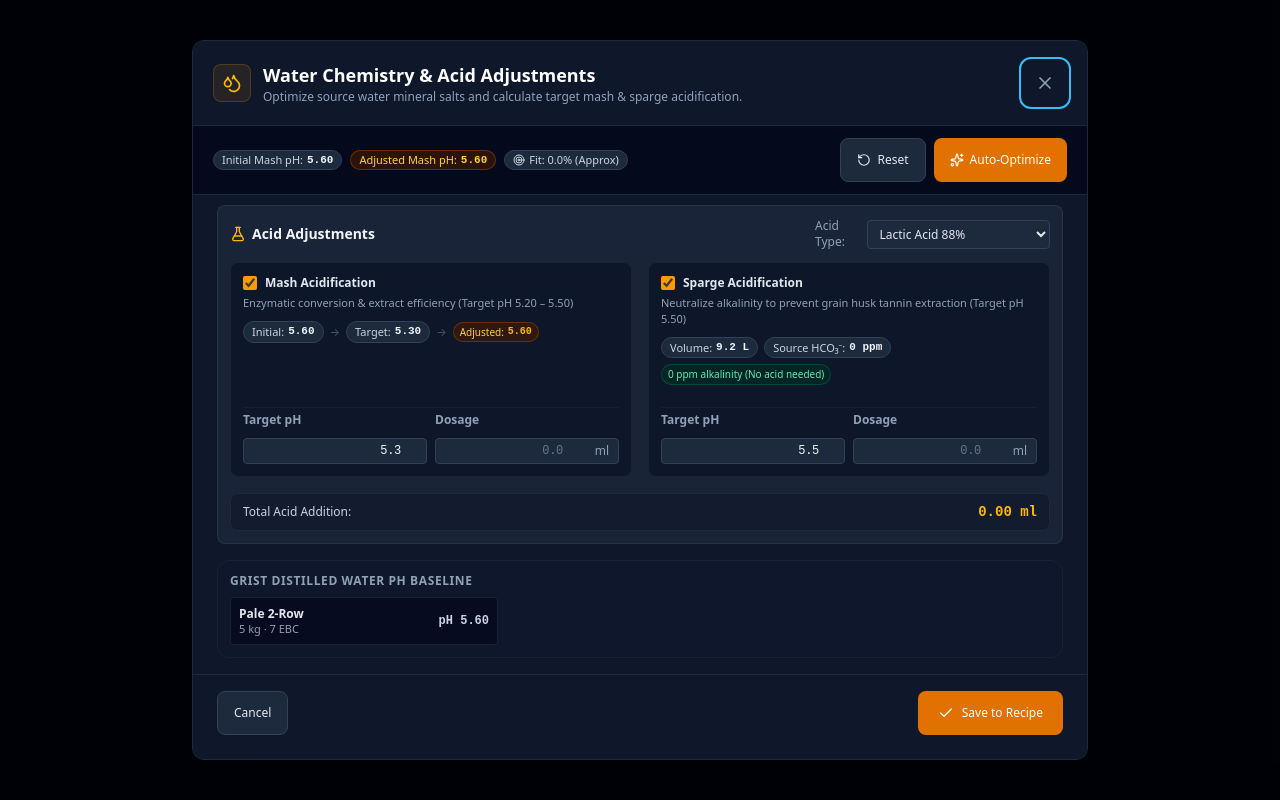
Scenario: AC-17: Acid toggles OFF disable respective controls and zero dosages (RA-2, RA-3, RA-4) › disables mash/sparge controls and zeroes amounts without resetting target pH
The image size is (1280, 800).
(page scrolled)
Type "3.5" into the number field named "Mash Acid Dosage".
click(527, 451); type("3.5")  # box left=435, top=438, right=619, bottom=464
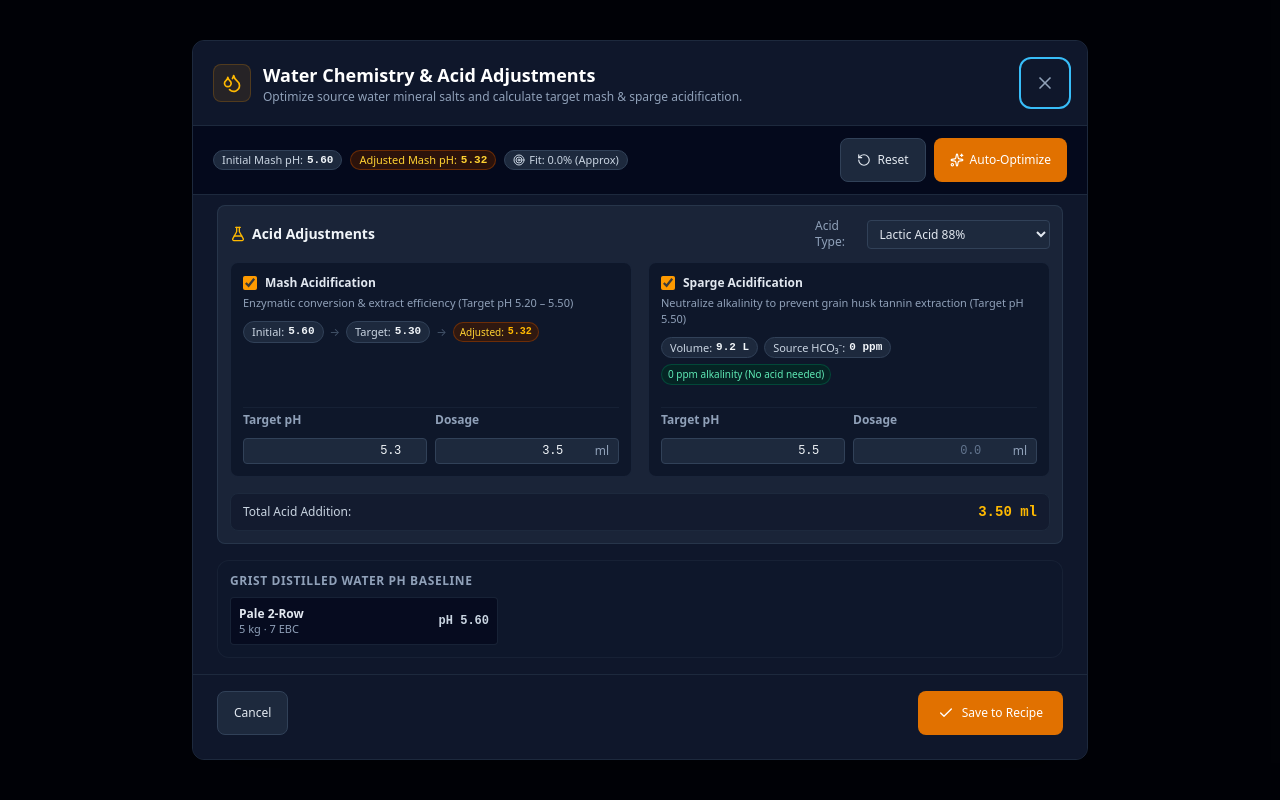
Type "2.1" into the number field named "Sparge Acid Dosage".
click(945, 451); type("2.1")  # box left=853, top=438, right=1037, bottom=464
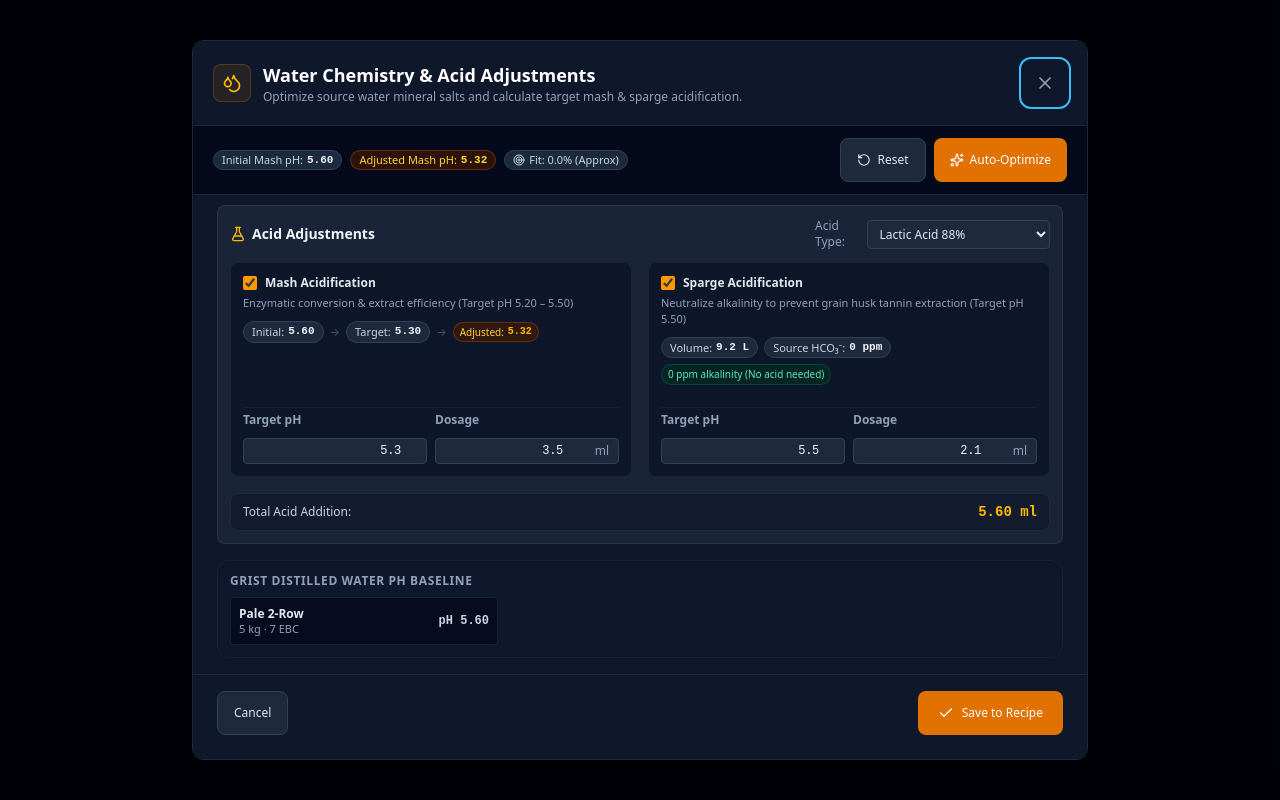
// (a) Toggle mash acid OFF
Click the checkbox with test id "add-mash-acid-toggle".
click(250, 283)  # box left=243, top=276, right=257, bottom=290
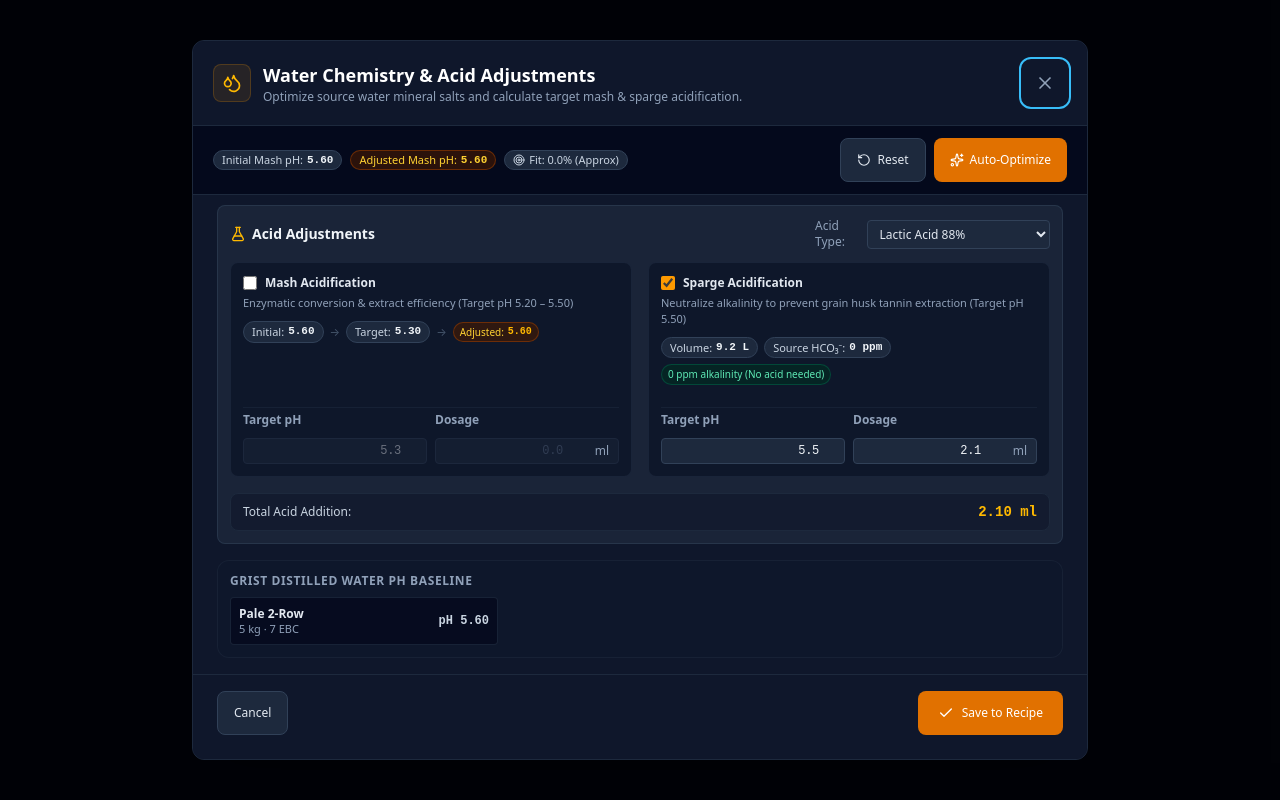
expect the number field named "Mash Acid Dosage" is disabled: met, box left=435, top=438, right=619, bottom=464
expect the number field named "Mash Acid Dosage" is not empty: met, box left=435, top=438, right=619, bottom=464
expect the number field with id "targetMashPhInput" is disabled: met, box left=243, top=438, right=427, bottom=464
// (b) Toggle sparge acid OFF
Click the checkbox with test id "add-sparge-acid-toggle".
click(668, 283)  # box left=661, top=276, right=675, bottom=290
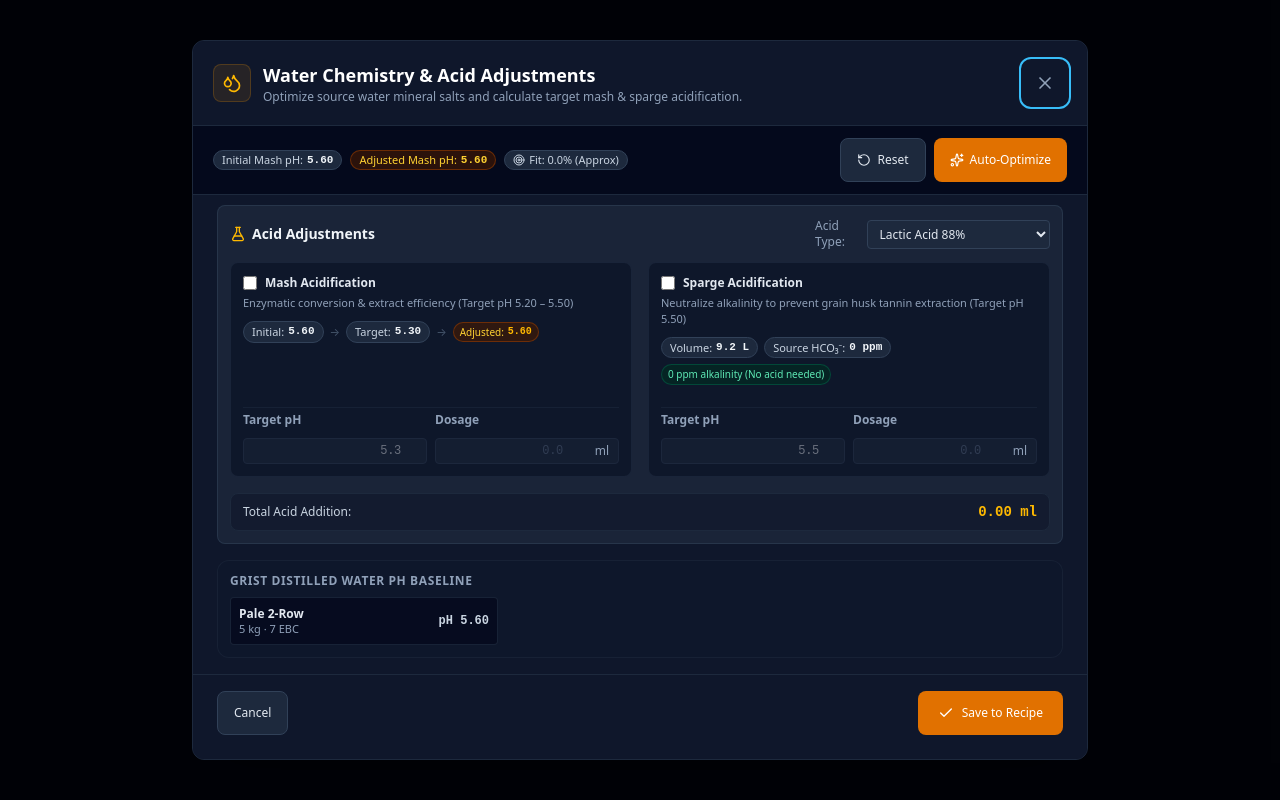
expect the number field named "Sparge Acid Dosage" is disabled: met, box left=853, top=438, right=1037, bottom=464
expect the number field named "Sparge Acid Dosage" is not empty: met, box left=853, top=438, right=1037, bottom=464
expect the number field with id "targetSpargePhInput" is disabled: met, box left=661, top=438, right=845, bottom=464
